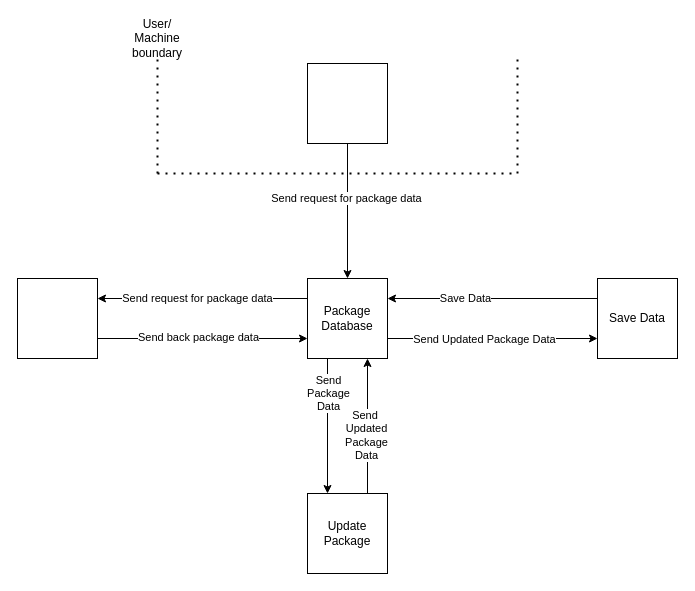
This 695x591 diagram has some shape labels left out. The shapes that lost their labels are listed below. From the top down, each one's centre as x and y in pixels, then its label:
(x=347, y=103): User
(x=57, y=318): Package Data
